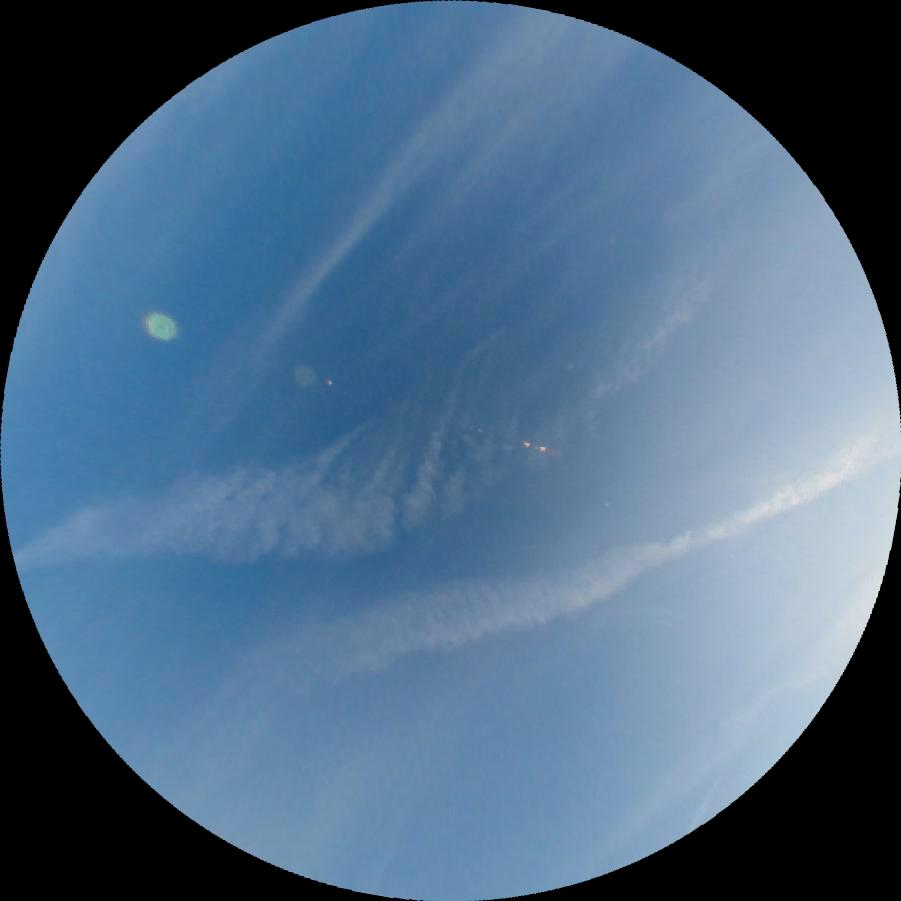contrail veryold: (4, 151, 824, 712)
contrail young: (686, 753, 733, 834)
